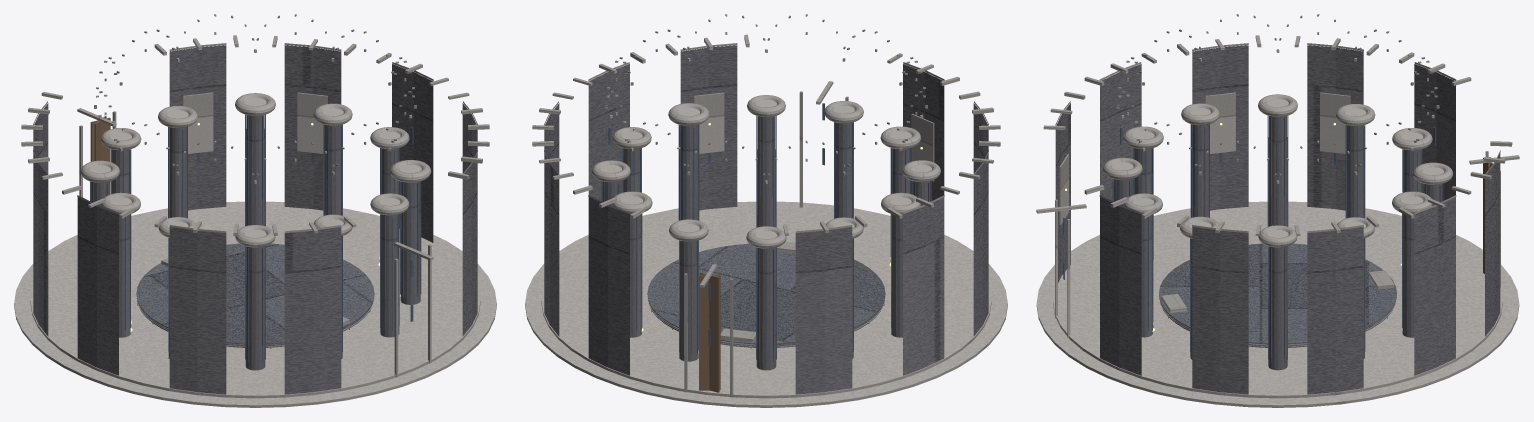
The model's file is test-iso-mapping-v3_v1.glb.
3 views of the same model, side by side, from view 1: azimuth 30°, elevation 25°; view 2: azimuth 150°, elevation 25°; view 3: azimuth 270°, elevation 25° (orthographic).
Visible parts, largest first — view 1: plinthe, mur_7, mur_8, assise, main_courante, mur_6, mur_1, mur_2, mur_0, colonne_8, colonne_11, colonne_2 (+18 smaller); view 2: plinthe, mur_4, assise, main_courante, mur_2, mur_5, mur_10, mur_11, colonne_4, colonne_10, colonne_3, mur_8 (+21 smaller); view 3: plinthe, mur_0, mur_11, assise, mur_1, mur_10, main_courante, mur_5, mur_6, mur_4, mur_7, colonne_0 (+17 smaller).
Boxes of the visible parts, bbox=[...] form: plinthe: bbox=[30, 206, 480, 398]; mur_7: bbox=[169, 227, 226, 394]; mur_8: bbox=[284, 227, 341, 394]; assise: bbox=[14, 201, 496, 407]; main_courante: bbox=[136, 243, 374, 344]; mur_6: bbox=[77, 197, 118, 375]; mur_1: bbox=[284, 45, 341, 210]; mur_2: bbox=[169, 45, 226, 210]; mur_0: bbox=[392, 64, 433, 242]; colonne_8: bbox=[235, 225, 275, 370]; colonne_11: bbox=[390, 160, 431, 304]; colonne_2: bbox=[235, 93, 275, 226]; plinthe: bbox=[541, 206, 991, 398]; mur_4: bbox=[795, 227, 852, 394]; assise: bbox=[525, 201, 1007, 407]; main_courante: bbox=[647, 243, 885, 344]; mur_2: bbox=[588, 197, 629, 375]; mur_5: bbox=[903, 197, 944, 375]; mur_10: bbox=[680, 45, 737, 210]; mur_11: bbox=[588, 64, 629, 201]; colonne_4: bbox=[746, 226, 786, 370]; colonne_10: bbox=[747, 95, 785, 227]; colonne_3: bbox=[669, 219, 708, 361]; mur_8: bbox=[903, 64, 944, 200]; plinthe: bbox=[1053, 206, 1502, 398]; mur_0: bbox=[1307, 227, 1363, 394]; mur_11: bbox=[1192, 227, 1248, 394]; assise: bbox=[1036, 201, 1519, 407]; mur_1: bbox=[1414, 197, 1455, 375]; mur_10: bbox=[1100, 197, 1141, 375]; main_courante: bbox=[1159, 243, 1396, 344]; mur_5: bbox=[1307, 45, 1363, 210]; mur_6: bbox=[1192, 45, 1248, 210]; mur_4: bbox=[1414, 64, 1455, 201]; mur_7: bbox=[1100, 64, 1141, 201]; colonne_0: bbox=[1258, 225, 1297, 370].
Bounding box in the file's own units: 56 × 29.62 × 56.06.
Materials: 10 (6 with a texture image).
